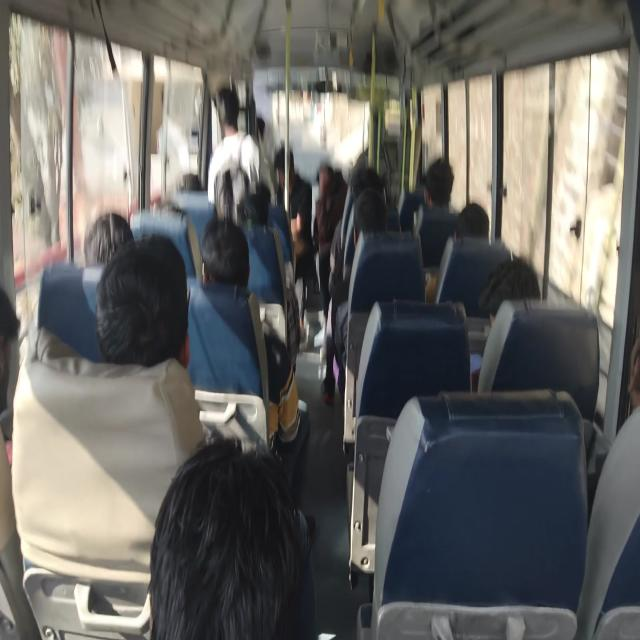person: (148, 436, 308, 638), (330, 175, 391, 408), (94, 233, 190, 370), (278, 151, 317, 329), (435, 201, 494, 307), (478, 256, 542, 318), (199, 216, 249, 289), (0, 284, 20, 429), (82, 214, 134, 268), (342, 153, 380, 212), (423, 157, 455, 208), (241, 187, 272, 229), (454, 202, 490, 238), (626, 324, 640, 416), (216, 85, 240, 137), (274, 144, 294, 171), (180, 174, 202, 192), (256, 117, 265, 142), (418, 174, 428, 191)
